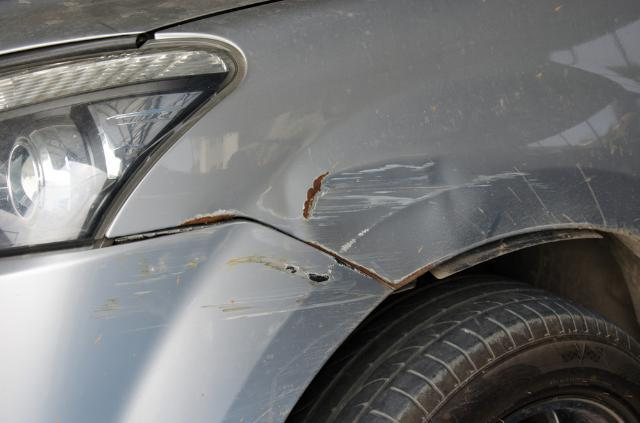dent: (431, 154, 464, 234)
dislocated part: (91, 0, 640, 290)
scratch: (91, 237, 382, 423), (298, 160, 434, 251), (470, 167, 562, 192)
